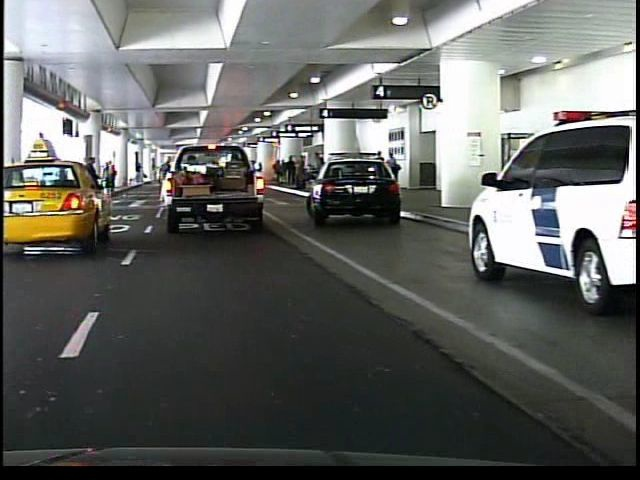person: (159, 151, 168, 203)
